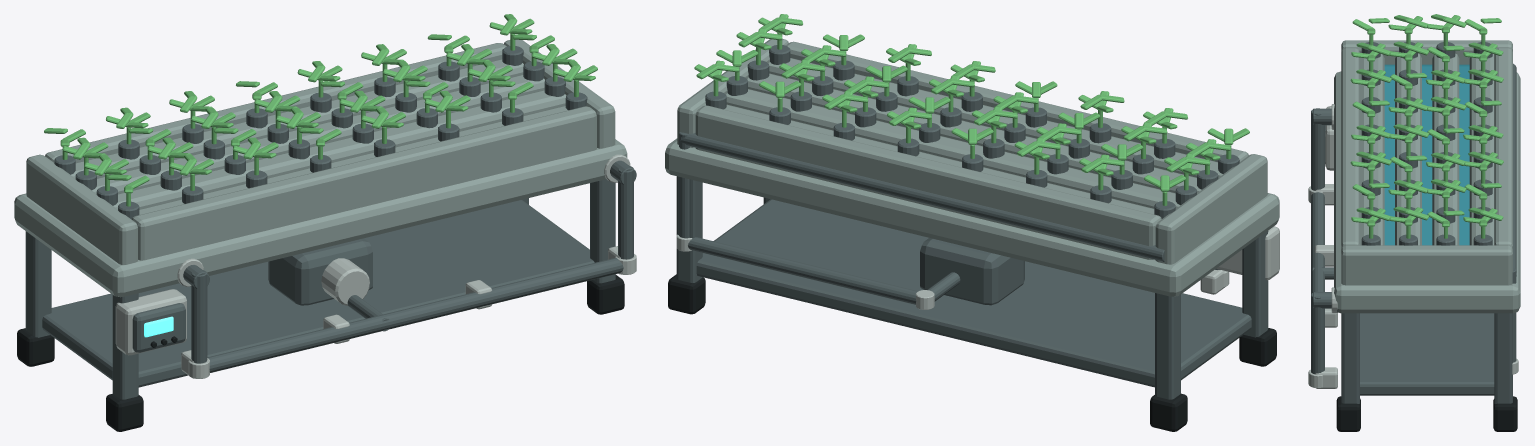
File: Grande table de culture.glb
3 renders of one model, left to right at view 1: azimuth 30°, elevation 25°; view 2: azimuth 150°, elevation 25°; view 3: azimuth 270°, elevation 25°, orthographic. The views are drawn at different scales.
Visible parts, largest first — view 1: 06_large_culture_table_Lower_Frame, 06_large_culture_table_Basin_Wall_Front, 06_large_culture_table_Top_Frame, 06_large_culture_table_Front_Circulation_Loop_Segment_2, 06_large_culture_table_NFT_Channel_2, 06_large_culture_table_Basin_Wall_Left, 06_large_culture_table_NFT_Channel_3, 06_large_culture_table_Basin_Wall_Rear, 06_large_culture_table_NFT_Channel_4, 06_large_culture_table_Central_Motor_Housing, 06_large_culture_table_Leg_-1_1, 06_large_culture_table_Leg_1_-1 (+11 smaller); view 2: 06_large_culture_table_Lower_Frame, 06_large_culture_table_Top_Frame, 06_large_culture_table_Basin_Wall_Rear, 06_large_culture_table_NFT_Channel_3, 06_large_culture_table_Rear_Manifold, 06_large_culture_table_Basin_Wall_Left, 06_large_culture_table_Central_Motor_Housing, 06_large_culture_table_NFT_Channel_2, 06_large_culture_table_Basin_Wall_Front, 06_large_culture_table_NFT_Channel_1, 06_large_culture_table_Rear_Return_To_Motor_Segment_2, 06_large_culture_table_Leg_-1_1 (+9 smaller); view 3: 06_large_culture_table_Lower_Frame, 06_large_culture_table_Top_Frame, 06_large_culture_table_Basin_Wall_Right, 06_large_culture_table_Water_Surface, 06_large_culture_table_Basin_Wall_Front, 06_large_culture_table_Basin_Wall_Rear, 06_large_culture_table_NFT_Channel_3, 06_large_culture_table_NFT_Channel_2, 06_large_culture_table_NFT_Channel_4, 06_large_culture_table_NFT_Channel_1, 06_large_culture_table_Leg_1_-1, 06_large_culture_table_Leg_1_1 (+16 smaller).
Boxes of the visible parts, x1=… form: 06_large_culture_table_Lower_Frame: x1=42, y1=200, x2=594, y2=387; 06_large_culture_table_Basin_Wall_Front: x1=132, y1=106, x2=596, y2=260; 06_large_culture_table_Top_Frame: x1=14, y1=139, x2=627, y2=297; 06_large_culture_table_Front_Circulation_Loop_Segment_2: x1=207, y1=258, x2=623, y2=372; 06_large_culture_table_NFT_Channel_2: x1=113, y1=90, x2=566, y2=209; 06_large_culture_table_Basin_Wall_Left: x1=26, y1=154, x2=137, y2=264; 06_large_culture_table_NFT_Channel_3: x1=92, y1=74, x2=544, y2=193; 06_large_culture_table_Basin_Wall_Rear: x1=45, y1=43, x2=506, y2=162; 06_large_culture_table_NFT_Channel_4: x1=71, y1=59, x2=523, y2=178; 06_large_culture_table_Central_Motor_Housing: x1=268, y1=238, x2=372, y2=305; 06_large_culture_table_Leg_-1_1: x1=25, y1=231, x2=51, y2=337; 06_large_culture_table_Leg_1_-1: x1=590, y1=179, x2=615, y2=283; 06_large_culture_table_Lower_Frame: x1=696, y1=199, x2=1251, y2=387; 06_large_culture_table_Top_Frame: x1=665, y1=138, x2=1279, y2=296; 06_large_culture_table_Basin_Wall_Rear: x1=695, y1=105, x2=1161, y2=259; 06_large_culture_table_NFT_Channel_3: x1=726, y1=89, x2=1180, y2=208; 06_large_culture_table_Rear_Manifold: x1=680, y1=132, x2=1164, y2=261; 06_large_culture_table_Basin_Wall_Left: x1=1155, y1=154, x2=1267, y2=264; 06_large_culture_table_Central_Motor_Housing: x1=920, y1=238, x2=1024, y2=305; 06_large_culture_table_NFT_Channel_2: x1=747, y1=73, x2=1201, y2=193; 06_large_culture_table_Basin_Wall_Front: x1=786, y1=41, x2=1248, y2=161; 06_large_culture_table_NFT_Channel_1: x1=768, y1=58, x2=1222, y2=177; 06_large_culture_table_Rear_Return_To_Motor_Segment_2: x1=688, y1=237, x2=917, y2=304; 06_large_culture_table_Leg_-1_1: x1=1155, y1=293, x2=1180, y2=399; 06_large_culture_table_Lower_Frame: x1=1360, y1=313, x2=1494, y2=395; 06_large_culture_table_Top_Frame: x1=1334, y1=71, x2=1520, y2=313; 06_large_culture_table_Basin_Wall_Right: x1=1341, y1=245, x2=1512, y2=285; 06_large_culture_table_Water_Surface: x1=1384, y1=64, x2=1469, y2=245; 06_large_culture_table_Basin_Wall_Front: x1=1341, y1=48, x2=1359, y2=249; 06_large_culture_table_Basin_Wall_Rear: x1=1494, y1=48, x2=1512, y2=248; 06_large_culture_table_NFT_Channel_3: x1=1432, y1=53, x2=1459, y2=245; 06_large_culture_table_NFT_Channel_2: x1=1395, y1=53, x2=1421, y2=245; 06_large_culture_table_NFT_Channel_4: x1=1469, y1=54, x2=1494, y2=245; 06_large_culture_table_NFT_Channel_1: x1=1360, y1=54, x2=1384, y2=245; 06_large_culture_table_Leg_1_-1: x1=1341, y1=313, x2=1359, y2=403; 06_large_culture_table_Leg_1_1: x1=1494, y1=313, x2=1512, y2=403.
Size of the model in its own units: 2.8 by 1.24 by 1.14.
